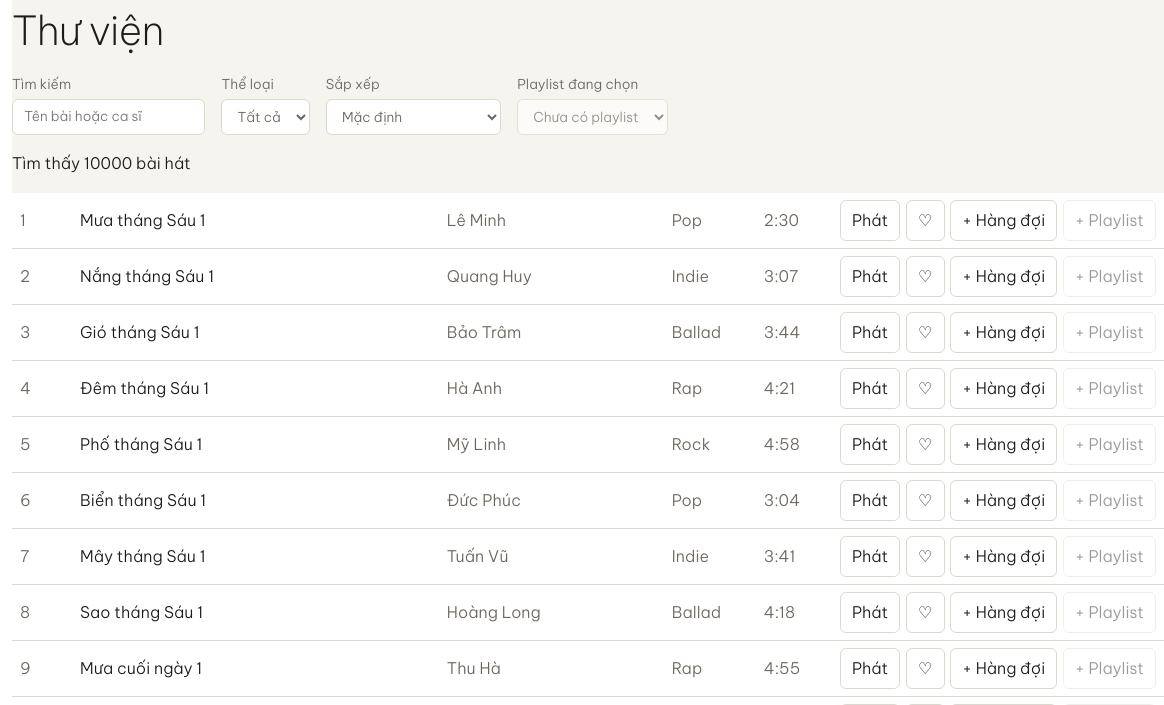
Test case: LibraryPage › chưa lọc ngay khi đang gõ, sau 300ms mới lọc ra 1250 bài cho "mưa"
This screenshot has width=1164, height=705.
Type "mưa" into the search field labelled "Tìm kiếm".
click(109, 117); type("mưa")  # box [12,99,205,135]
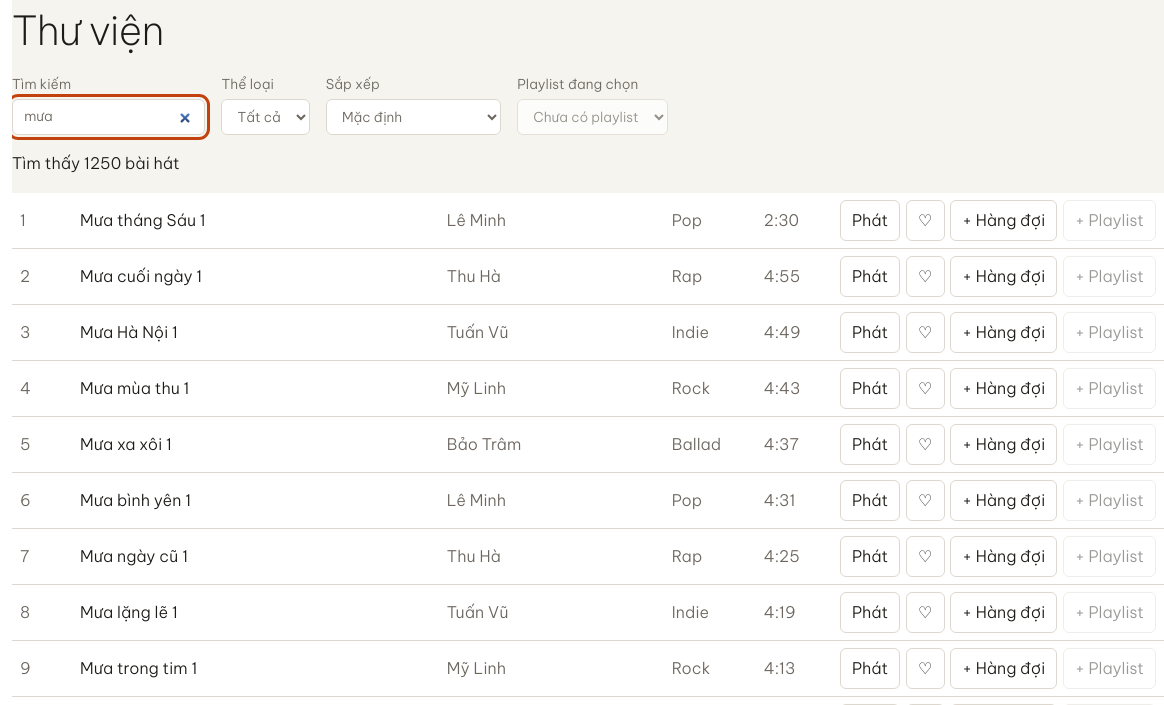
Result: the text "Tìm thấy 1250 bài hát" is shown at [12,154,180,174]
